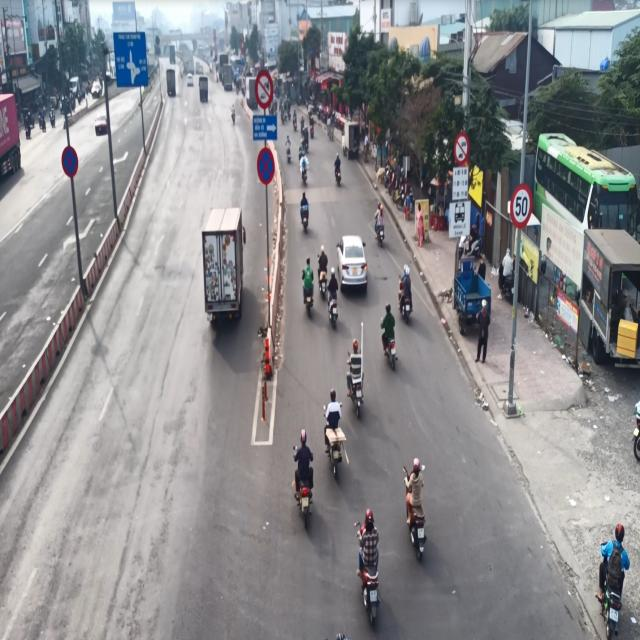car: (336, 235, 371, 298)
motor: (600, 520, 632, 640), (403, 444, 430, 560), (290, 424, 320, 524), (356, 507, 382, 622), (322, 391, 349, 475), (378, 295, 398, 368), (298, 250, 316, 322), (398, 253, 415, 320)
truck: (197, 204, 249, 334)
